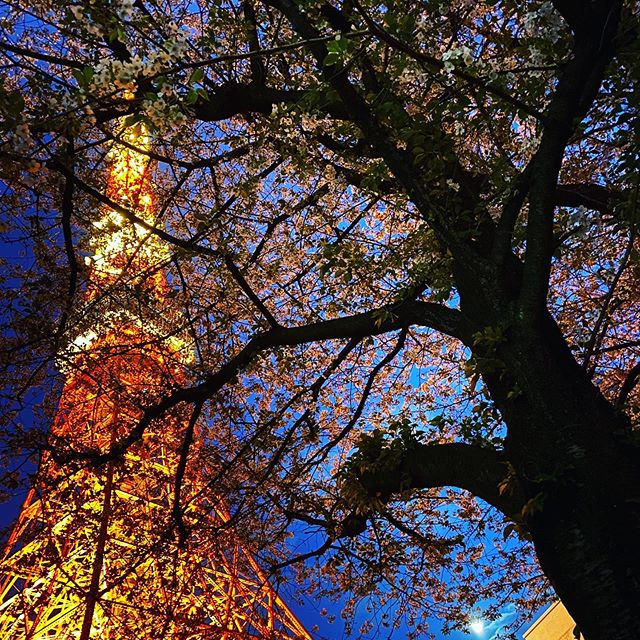tree: (38, 1, 633, 637)
